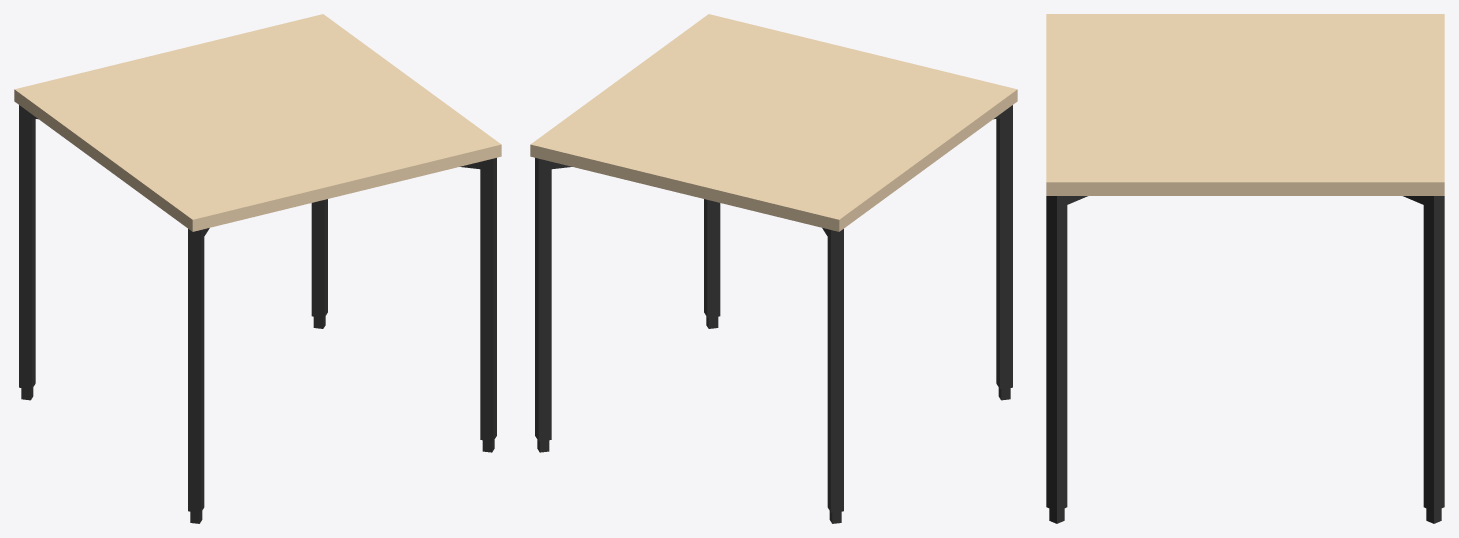
File: mesa.dae
3 views of the same model, side by side, from view 1: azimuth 30°, elevation 25°; view 2: azimuth 150°, elevation 25°; view 3: azimuth 270°, elevation 25° (orthographic). The views are drawn at different scales.
Visible parts, largest first — view 1: blad (×3), frame (×7); view 2: blad (×3), frame (×7); view 3: blad (×2), frame (×4).
Part boxes in pixels (x1,y1,x2,y2): blad (×3): [14, 14, 501, 231]; frame (×7): [19, 105, 496, 512]; blad (×3): [530, 14, 1017, 231]; frame (×7): [535, 105, 1012, 512]; blad (×2): [1046, 14, 1444, 195]; frame (×4): [1046, 196, 1444, 511].
Bounding box in the file's own units: 31.5 × 31.5 × 29.92.
